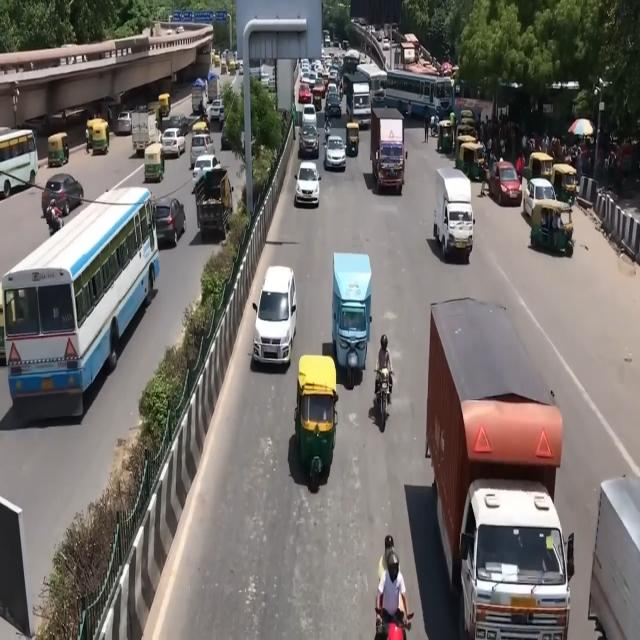auto: (294, 352, 339, 498), (531, 200, 575, 266), (554, 161, 578, 211), (144, 143, 168, 187), (47, 128, 72, 170), (461, 142, 486, 182), (530, 149, 556, 187), (90, 122, 112, 162), (455, 132, 478, 170), (85, 109, 103, 150), (346, 118, 360, 163), (438, 116, 454, 154), (156, 91, 172, 117), (312, 85, 322, 113)
bike-auto: (368, 507, 413, 640), (378, 328, 393, 435), (43, 192, 61, 247), (197, 96, 208, 136)
